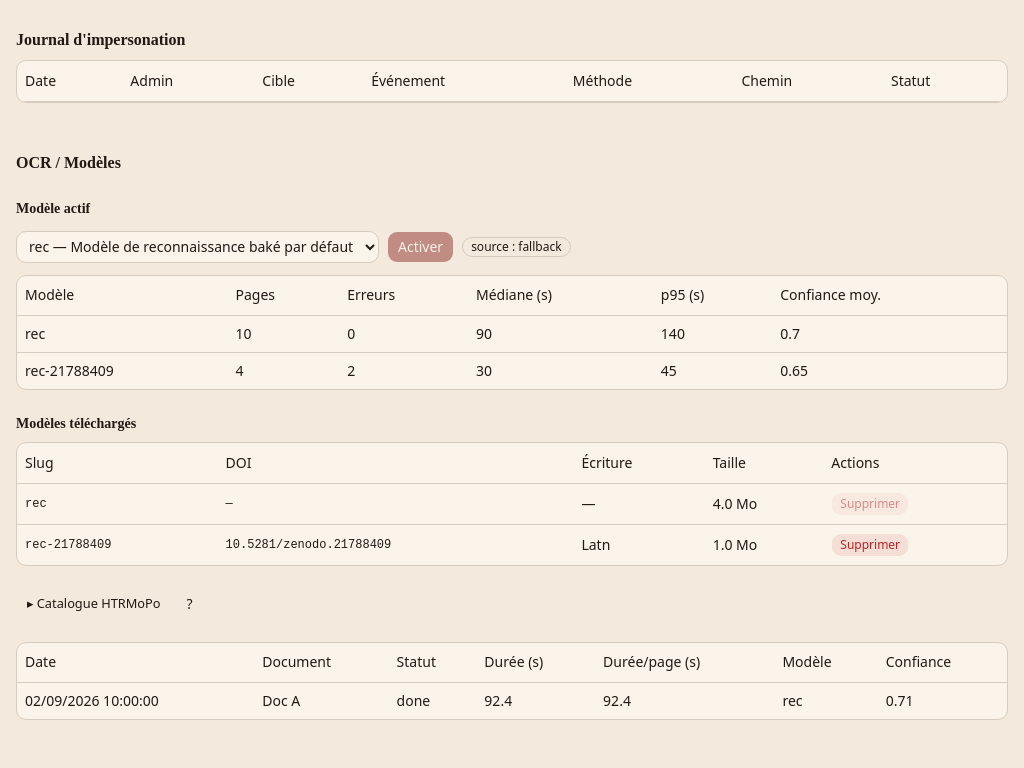
Test: a failed pull job surfaces its error
(page scrolled)
Click the button "▸ Catalogue HTRMoPo" at [94, 604], box x1=16 y1=590 x2=172 y2=618
(page scrolled)
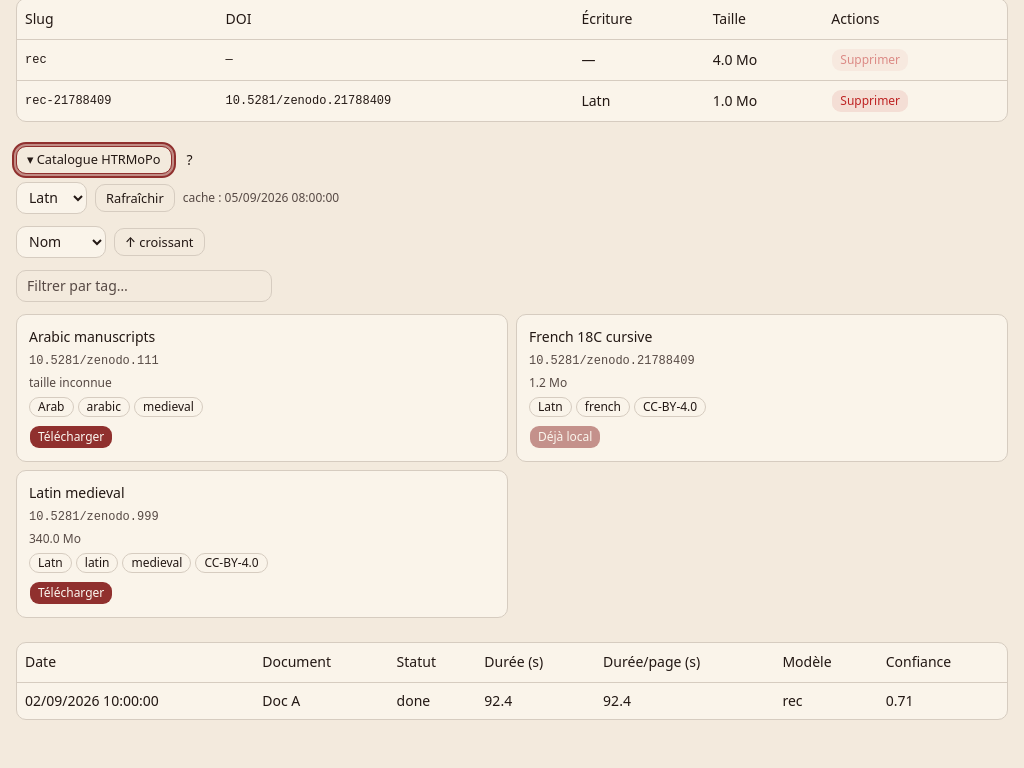
Click the button "Télécharger" below "340.0 Mo" at [71, 593], box x1=29 y1=581 x2=113 y2=605
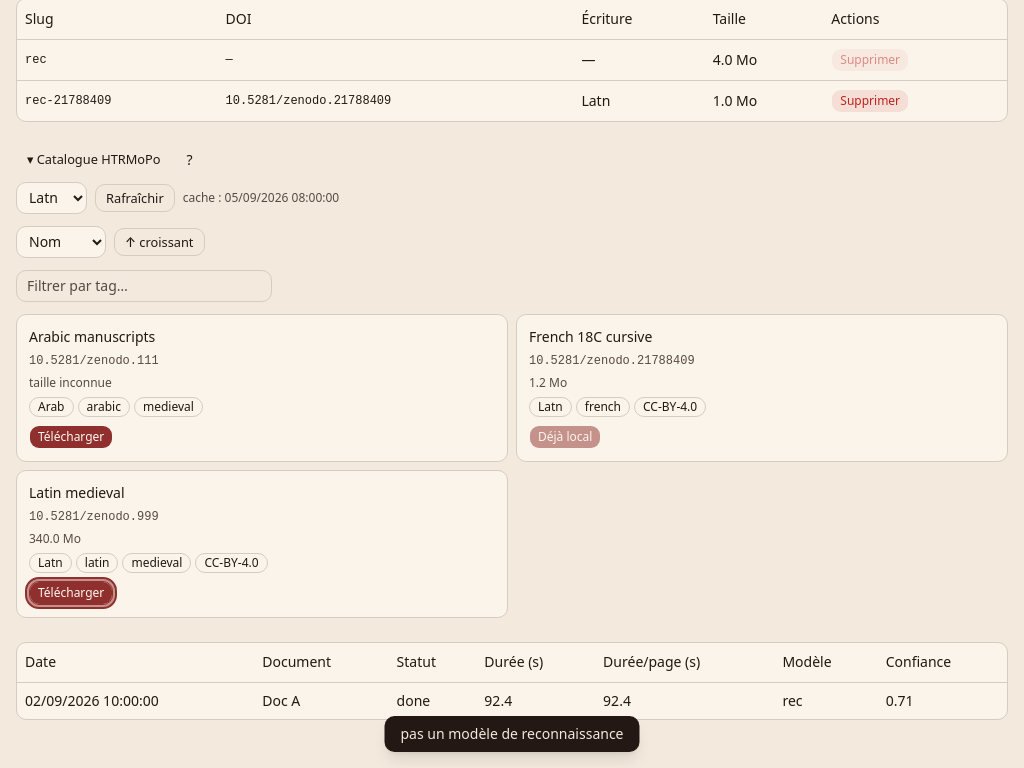
Now the text "pas un modèle de reconnaissance" is shown, box x1=384 y1=716 x2=640 y2=752
